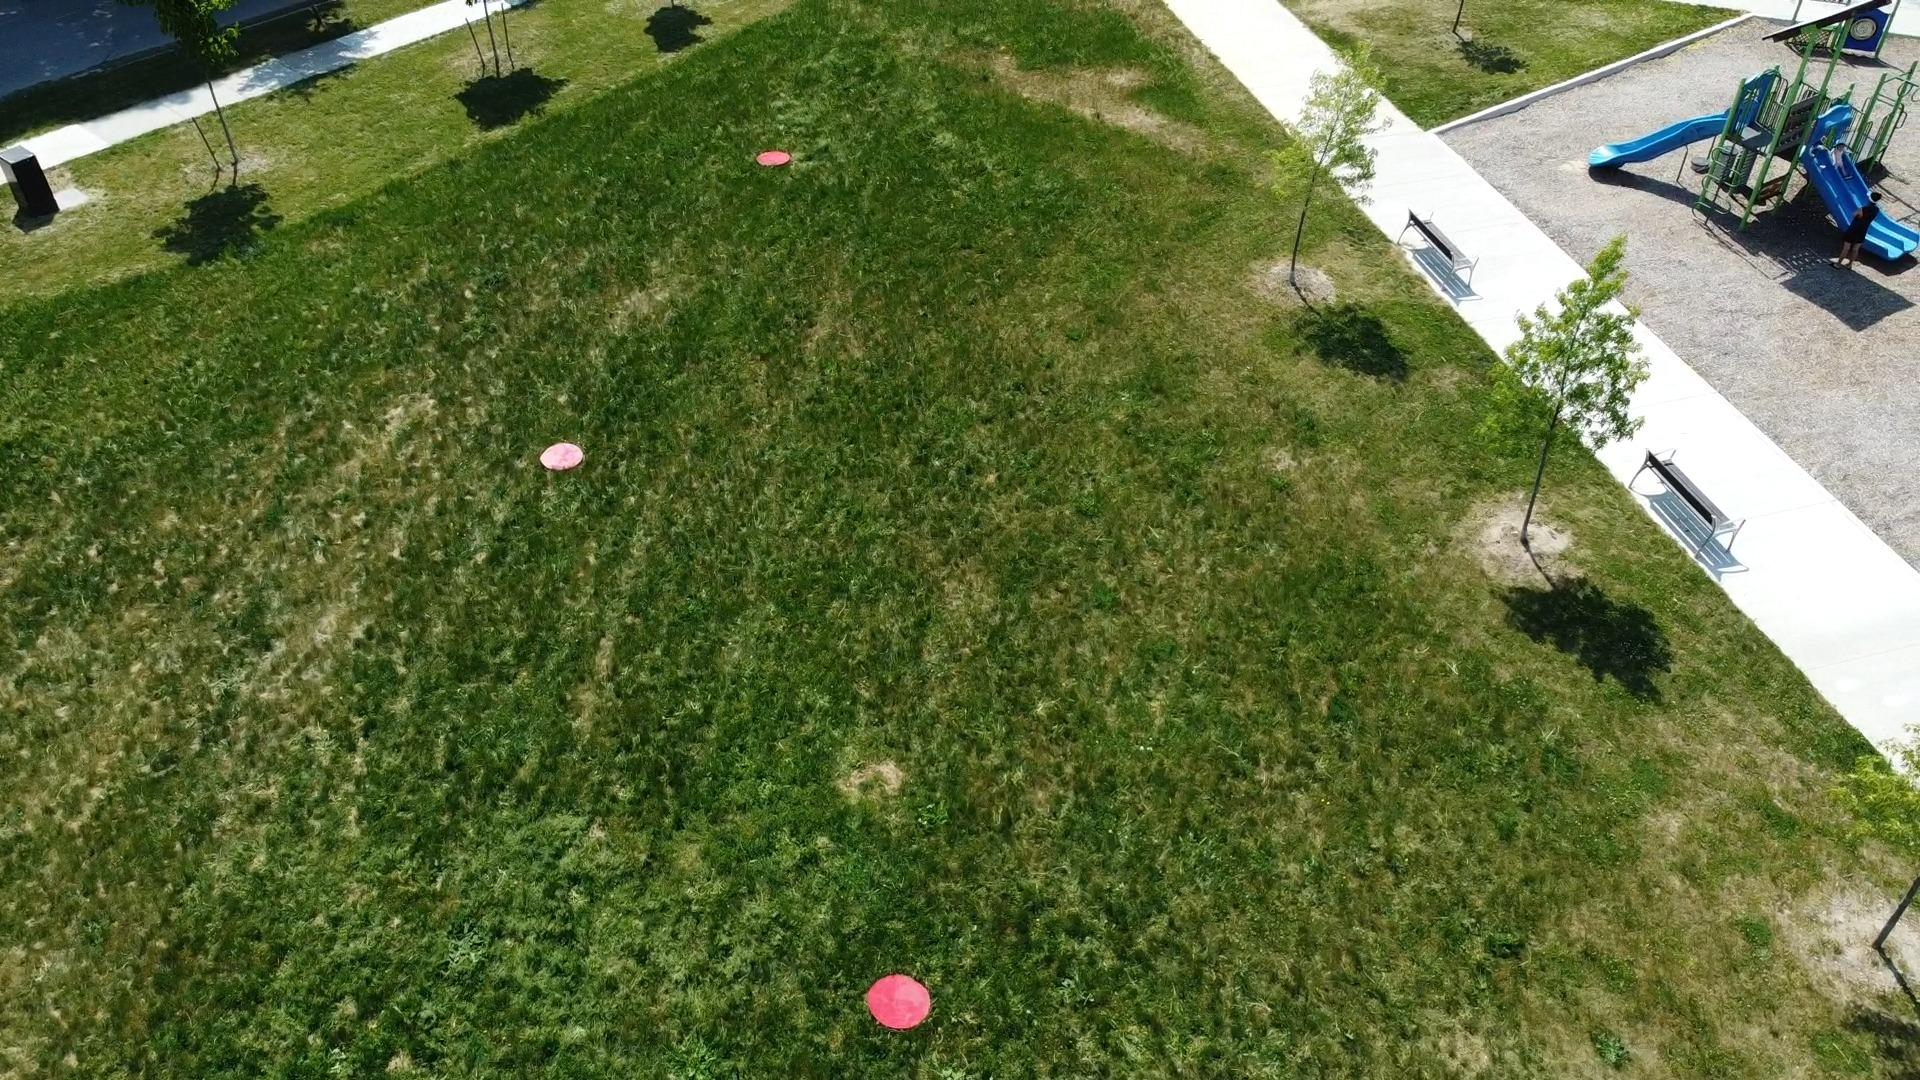Red: (862, 971, 934, 1035), (531, 436, 587, 477), (752, 148, 793, 170)
